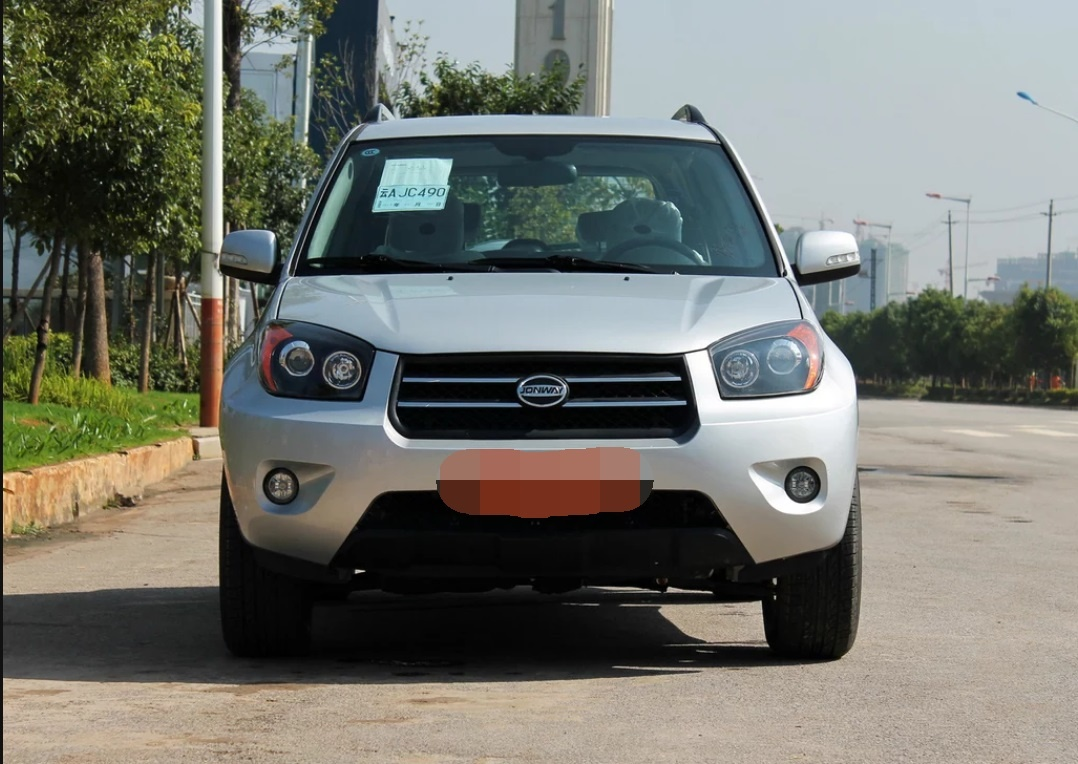SUV: (222, 80, 875, 664)
